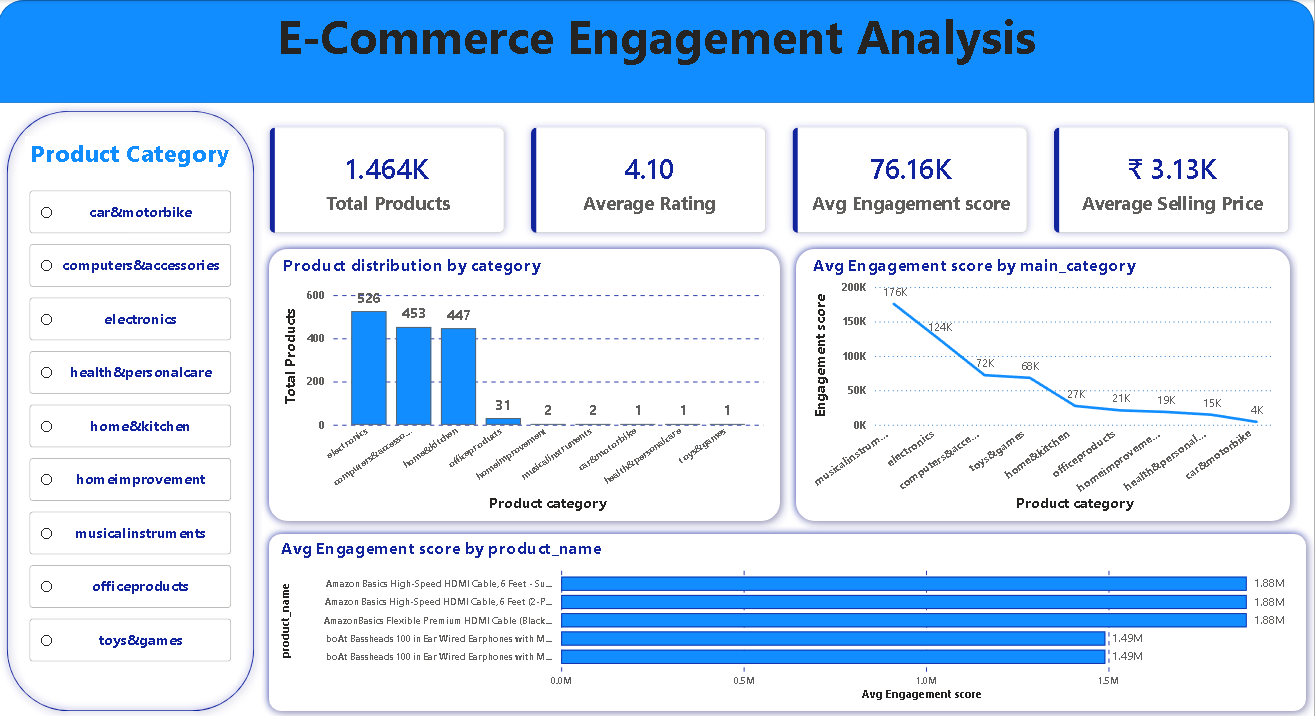

Layout of this report page (visuals, bound fields, positions):
{"tool":"powerbi","page":{"name":"Page 1","canvas":[1500,820],"ordinal":0},"visuals":[{"type":"actionButton","box":[0,0,100,40],"z":0},{"type":"cardVisual","fields":{"Data":["public product_dashboard.Total Products","public product_dashboard.Average Rating","public product_dashboard.Average Engagement Score","public product_dashboard.Average Selling Price"]},"box":[281.5,117.4,1218.5,176.7],"z":1000},{"type":"shape","box":[0,0,1500,117.4],"z":2000},{"type":"textbox","box":[0,0,1500,117.4],"z":3000},{"type":"shape","box":[299.8,274.7,600.7,328.3],"z":4000},{"type":"clusteredColumnChart","title":"Product distribution by category","fields":{"Category":["public product_dashboard.main_category"],"Y":["public product_dashboard.Total Products"]},"box":[320.3,288.4,557.4,299.8],"z":5000},{"type":"shape","box":[299.8,599.5,1200.2,220],"z":6000},{"type":"clusteredBarChart","fields":{"Category":["public product_dashboard.product_name"],"Y":["public product_dashboard.Avg Engagement score"]},"box":[318,610.9,1163.8,192.6],"z":7000},{"type":"shape","box":[900.5,274.7,581.3,328.3],"z":8000},{"type":"lineChart","fields":{"Category":["public product_dashboard.main_category"],"Y":["public product_dashboard.Avg Engagement score"]},"box":[924.4,288.4,535.7,299.8],"z":9000},{"type":"shape","box":[1.1,117.4,299.8,702.1],"z":10000},{"type":"advancedSlicerVisual","title":"Product Category","fields":{"Values":["public product_dashboard.main_category"]},"box":[30.8,155,240.5,624.6],"z":11000}]}

Visuals, with their boxes in screenshot pixels (x1, y1, x2, y2), scaled from the page's 1500x820 canvas onto the 1315x716 screenshot:
actionButton: l=0, t=0, r=88, b=35
cardVisual - public product_dashboard.Total Products x public product_dashboard.Average Rating: l=247, t=103, r=1314, b=257
shape: l=0, t=0, r=1314, b=103
textbox: l=0, t=0, r=1314, b=103
shape: l=263, t=240, r=789, b=527
"Product distribution by category" clusteredColumnChart: l=281, t=252, r=769, b=514
shape: l=263, t=523, r=1314, b=715
clusteredBarChart - public product_dashboard.product_name x public product_dashboard.Avg Engagement score: l=279, t=533, r=1299, b=702
shape: l=789, t=240, r=1299, b=527
lineChart - public product_dashboard.main_category x public product_dashboard.Avg Engagement score: l=810, t=252, r=1280, b=514
shape: l=1, t=103, r=264, b=715
"Product Category" advancedSlicerVisual: l=27, t=135, r=238, b=681
